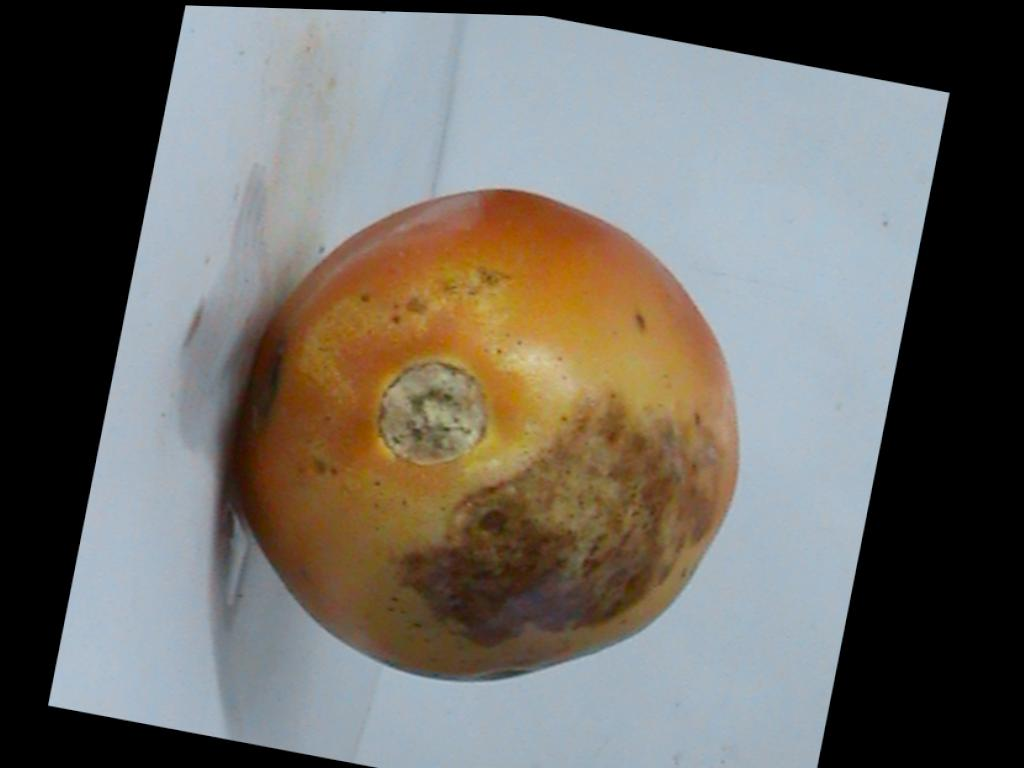rot_mold_decay: (404, 388, 721, 646)
tomato: (236, 191, 736, 682)
